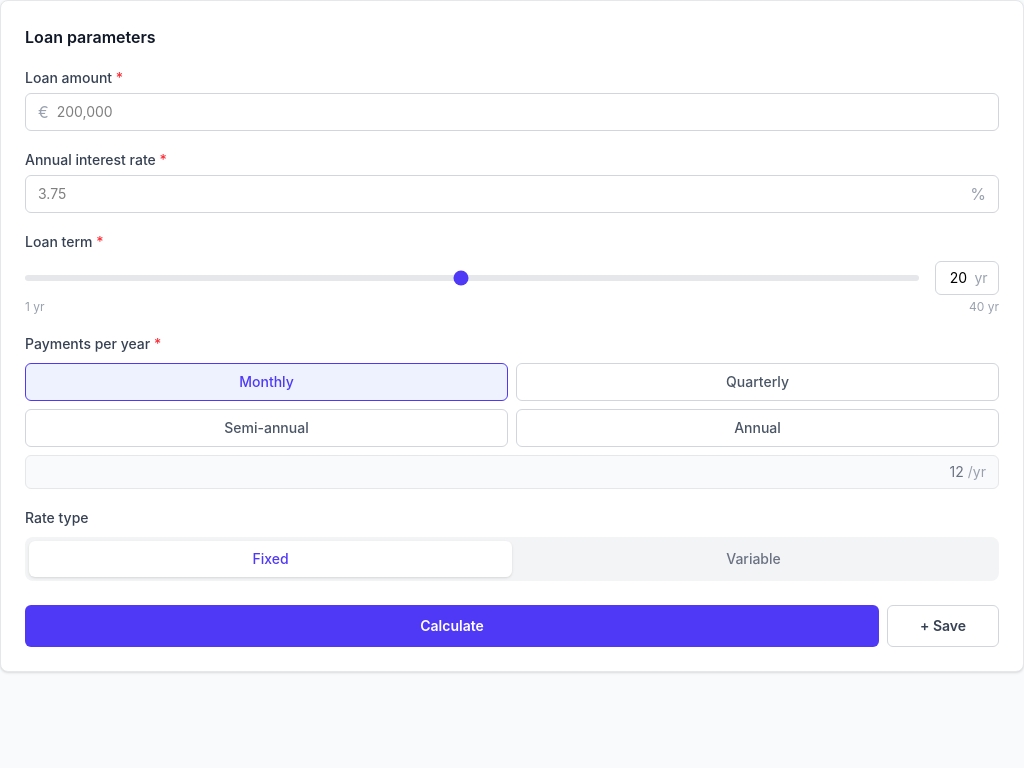
Test: LoanForm save failure › clears the error banner and shows the saved state when a retry succeeds
Click the button "+ Save" at coordinates (943, 626), box [887,605,999,647]
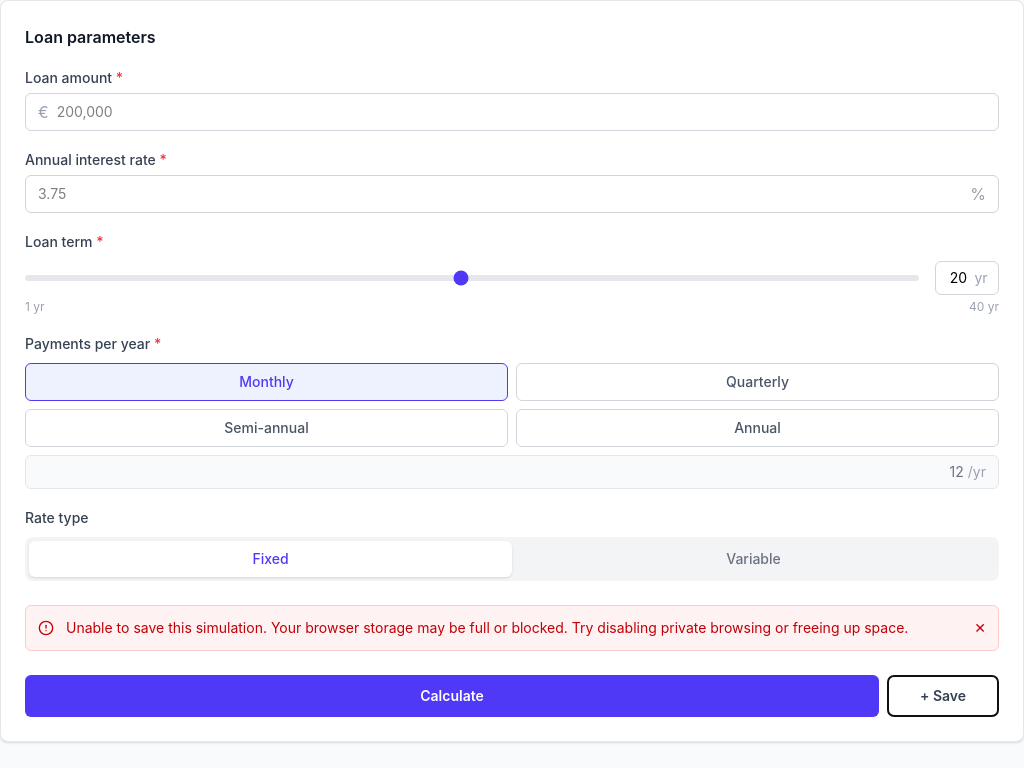
Expected: the message is shown, [25,605,999,651]
Click the button "+ Save" at coordinates (943, 696), box [887,675,999,717]
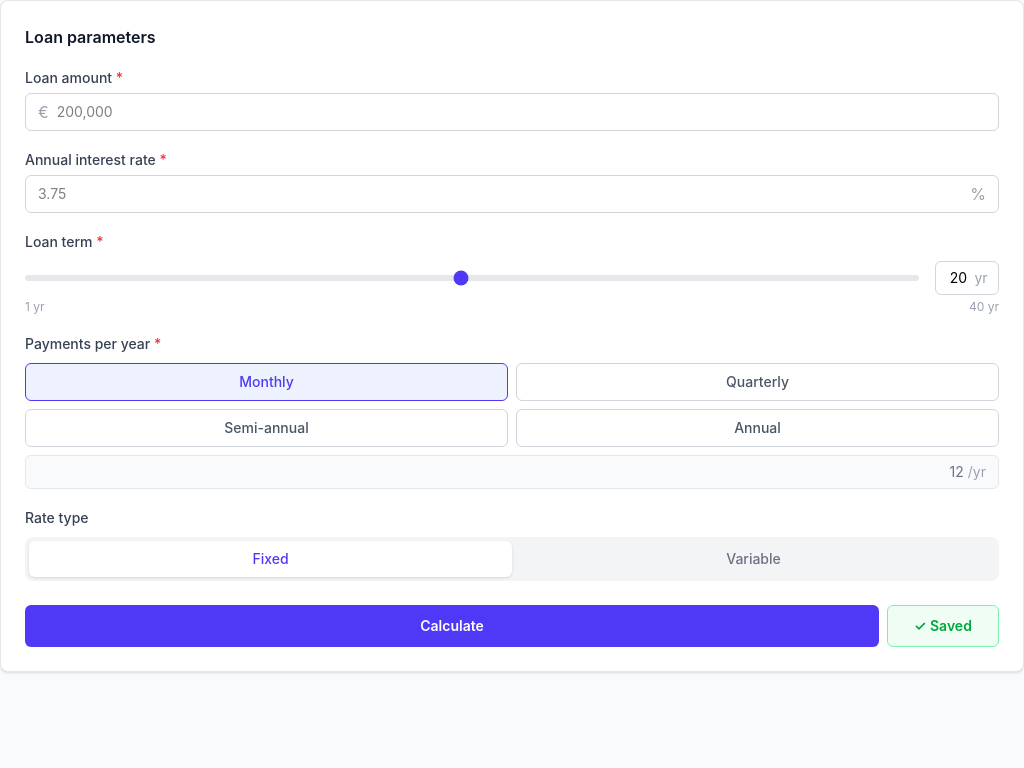
Expected: the message is gone
Expected: the button "✓ Saved" is disabled, [887,605,999,647]
